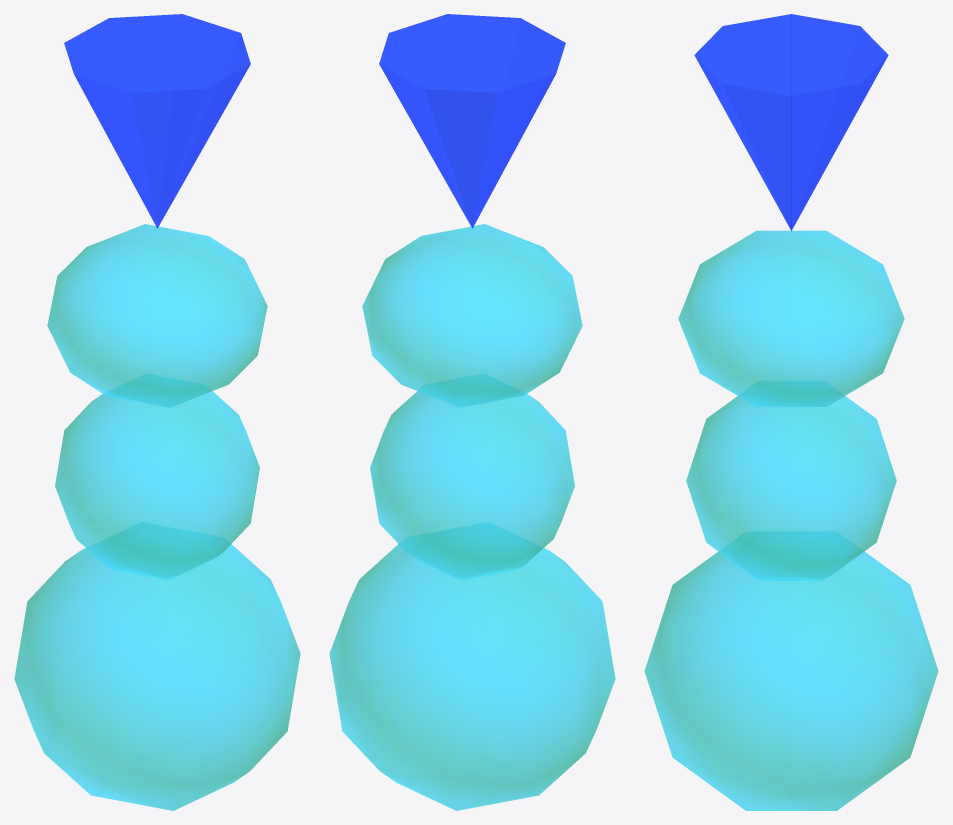
The model's file is enemy_blue.glb.
3 renders of one model, left to right at view 1: azimuth 30°, elevation 25°; view 2: azimuth 150°, elevation 25°; view 3: azimuth 270°, elevation 25°, orthographic.
Parts seen in each view (by area): view 1: blue_snowman, blue_cone; view 2: blue_snowman, blue_cone; view 3: blue_snowman, blue_cone.
Part boxes in pixels (x1=…): blue_snowman: x1=14, y1=224, x2=300, y2=810; blue_cone: x1=64, y1=14, x2=250, y2=228; blue_snowman: x1=329, y1=224, x2=615, y2=810; blue_cone: x1=379, y1=14, x2=565, y2=228; blue_snowman: x1=644, y1=230, x2=938, y2=810; blue_cone: x1=694, y1=14, x2=888, y2=230.
Size of what is drawn, in the model's own units: 0.7671 by 2.27 by 0.8066.
